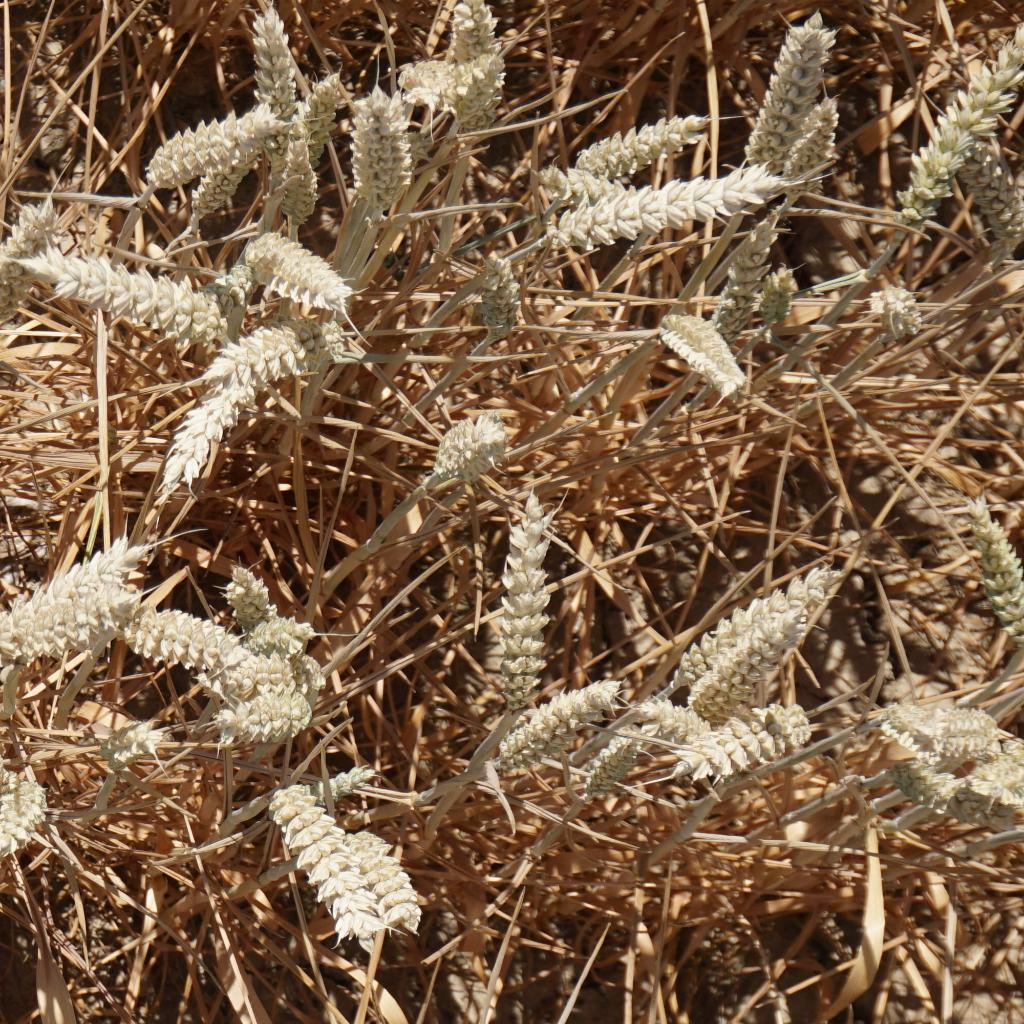0-0: (261, 790, 384, 952), (903, 41, 1007, 219), (47, 244, 217, 352), (665, 581, 810, 704), (479, 490, 560, 700), (540, 179, 789, 239), (193, 318, 356, 395), (676, 699, 810, 782), (140, 385, 243, 492), (16, 579, 136, 669), (234, 223, 351, 314), (742, 15, 815, 160), (332, 88, 416, 214), (564, 98, 711, 166), (126, 604, 259, 679), (196, 681, 318, 755), (470, 675, 617, 736), (664, 297, 745, 402), (348, 832, 428, 935), (880, 700, 1019, 759), (133, 98, 260, 162), (448, 5, 512, 131), (418, 403, 521, 476), (965, 512, 1024, 629), (86, 700, 177, 771), (0, 187, 45, 320), (0, 755, 58, 856), (894, 755, 975, 826), (719, 217, 762, 335), (387, 56, 470, 115), (239, 12, 290, 108), (182, 142, 239, 226), (964, 144, 1016, 236), (0, 590, 35, 725), (274, 758, 368, 806), (967, 723, 1024, 802), (220, 563, 283, 631), (743, 261, 804, 331), (473, 256, 526, 334), (787, 109, 843, 182), (574, 716, 635, 783), (275, 153, 325, 223), (247, 605, 318, 652), (867, 272, 924, 328), (531, 160, 608, 199), (208, 252, 256, 307), (641, 688, 698, 733), (300, 71, 334, 146), (0, 711, 15, 796)
